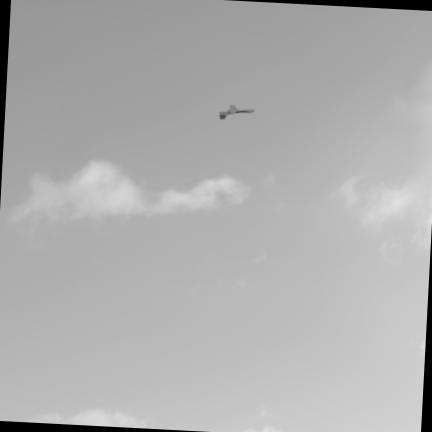Shahed: (220, 105, 255, 119)
